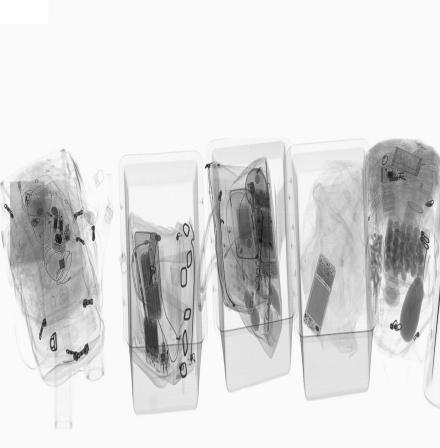Lighter: (249, 273, 256, 314)
